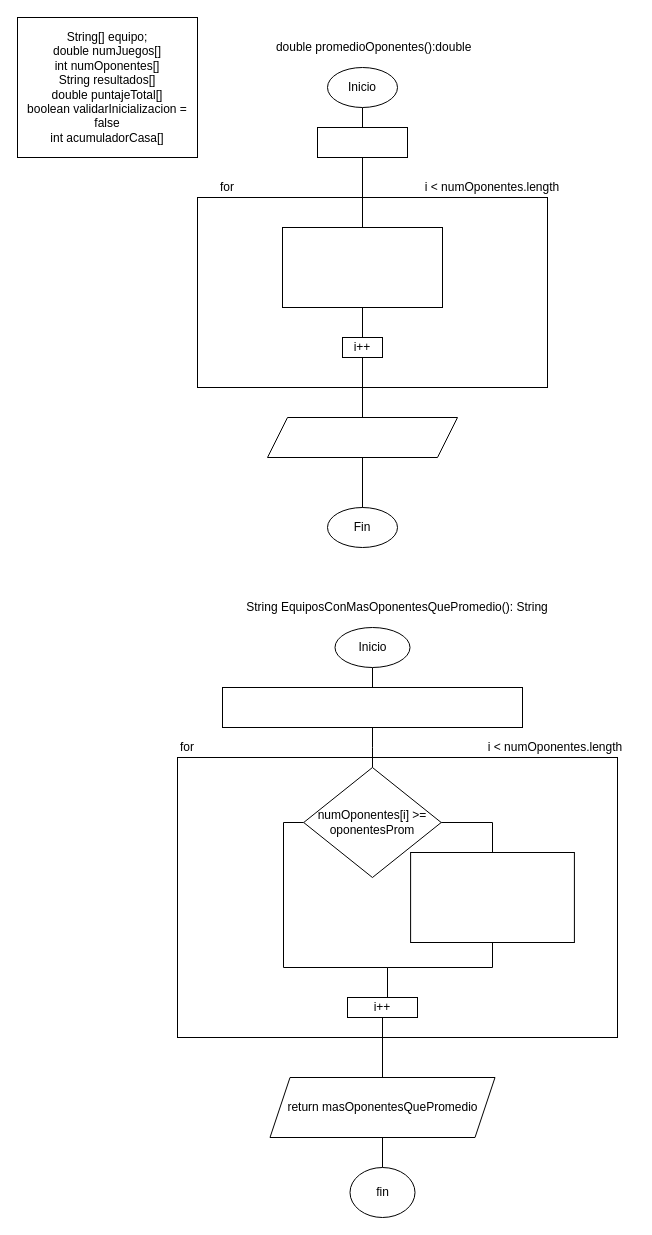
This 652x1235 diagram has some shape labels left out. Here are the shapes that lost their labels. From the top down, the centre of each, then its label:
(362,142): double sum = 0
(362,267): sum+= numOponentes[i]
(362,437): return sum / numOponentes.length
(372,707): String masOponentesQuePromedio = "" double oponentesProm = promedioOponentes()
(492,897): masOponentesQuePromedio += equipo[i] + ", "
